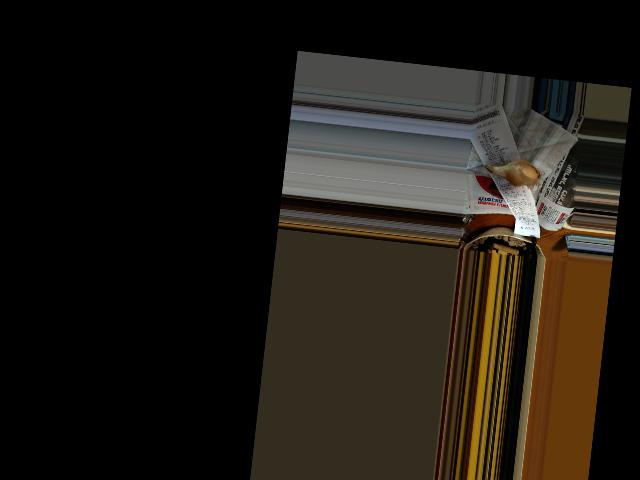onion: (499, 157, 540, 186)
